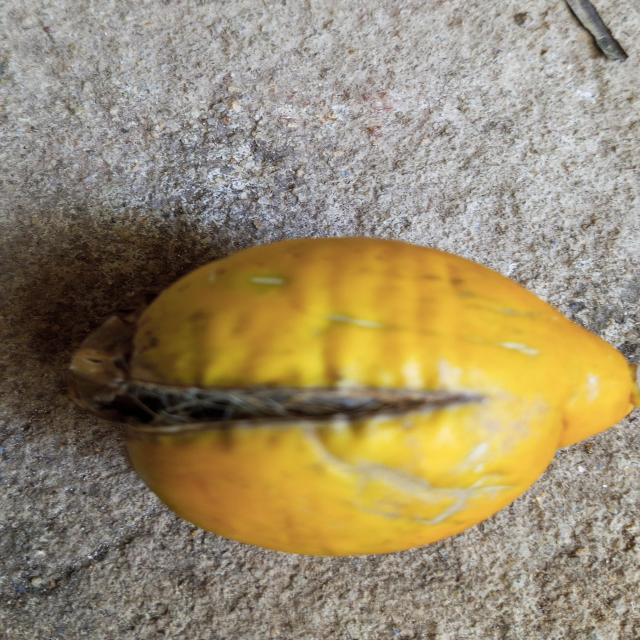damaged: (67, 237, 640, 561)
